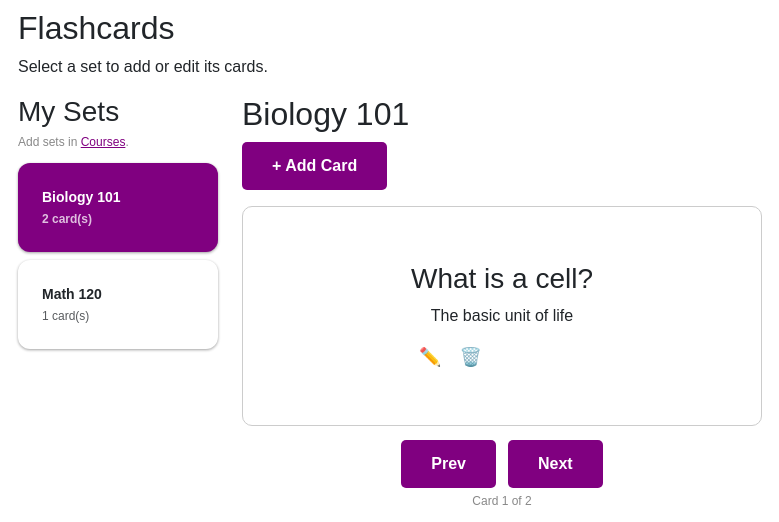
Scenario: Flashcards rendering › switches sets when clicked
The width and height of the screenshot is (779, 522).
Click the text "Math 120" at (72, 294), box [42,286,102,302]
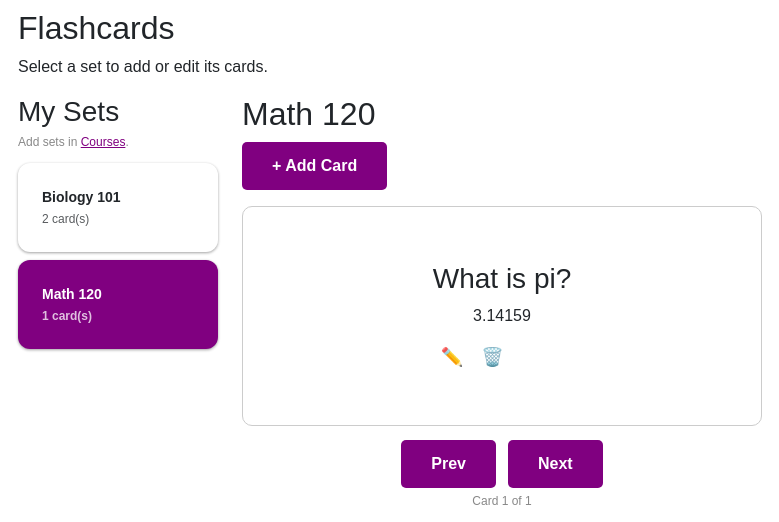
Result: the heading "What is pi?" is shown at [433,262,571,296]
Result: the text "3.14159" is shown at [473,307,531,324]
